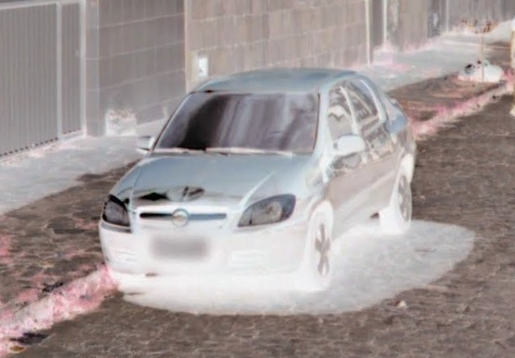car: (95, 63, 420, 295)
